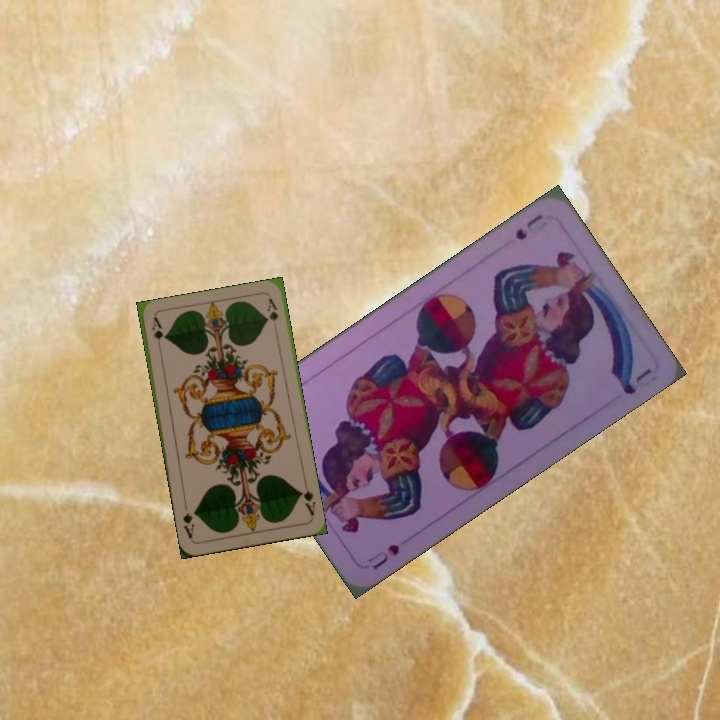GA: (295, 479, 318, 518), (147, 314, 165, 355)
SU: (363, 540, 403, 573), (511, 210, 545, 243)
